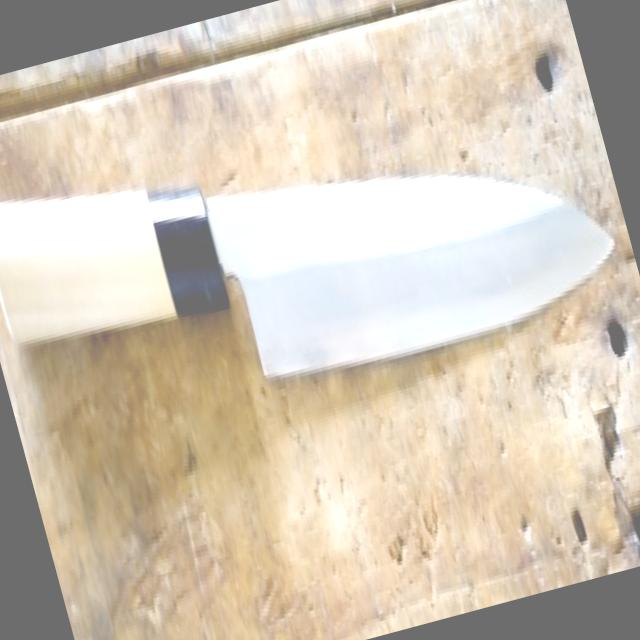knife: (0, 14, 640, 524)
